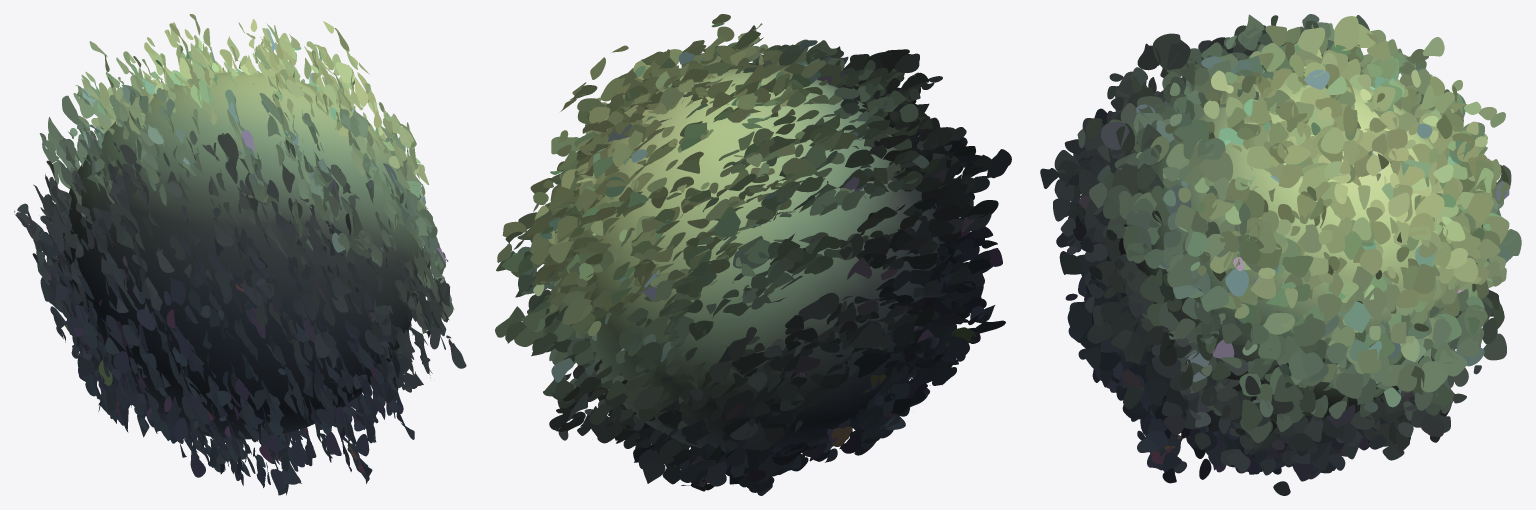
File: leaf-cluster.glb
The picture shows the model from 3 angles, left to right: view 1: azimuth 30°, elevation 25°; view 2: azimuth 150°, elevation 25°; view 3: azimuth 270°, elevation 25°; orthographic projection. The views are drawn at different scales.
Parts seen in each view (by area): view 1: Leaf cluster; view 2: Leaf cluster; view 3: Leaf cluster.
Part boxes in pixels (x1,y1,x2,y2): Leaf cluster: (14, 14, 466, 495); Leaf cluster: (495, 14, 1011, 495); Leaf cluster: (1040, 14, 1521, 495).
Size of the model in its own units: 7.42 by 7.8 by 7.69.
